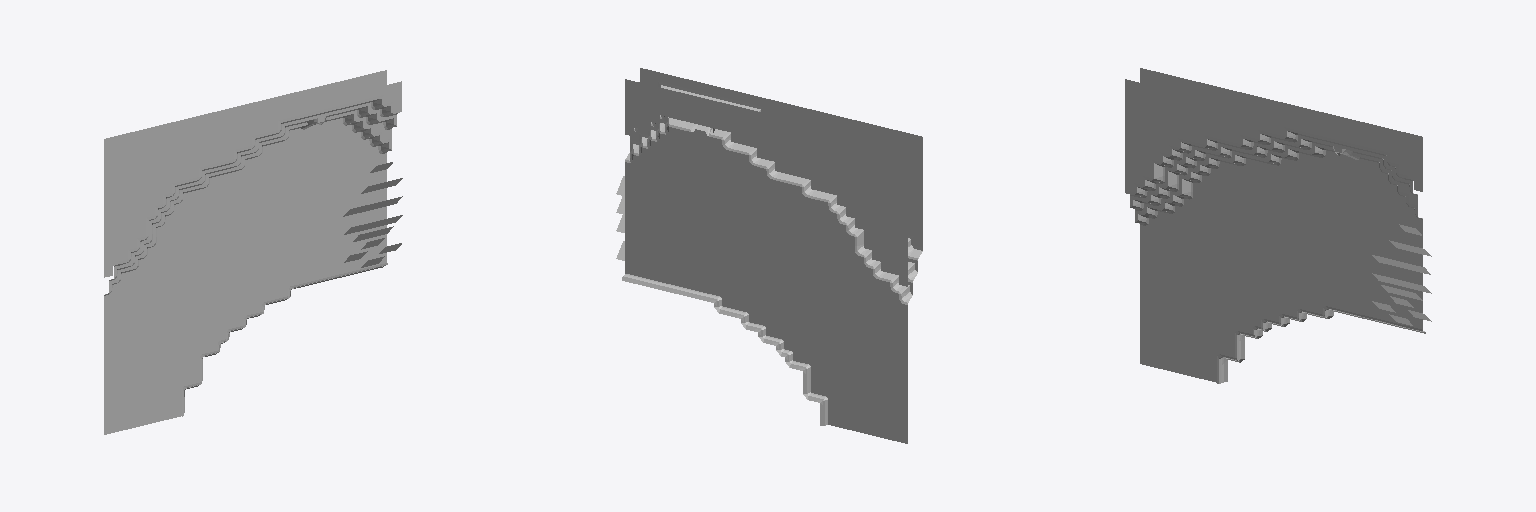
Rendered from testa_01_00.obj.
3 views of the same model, side by side, from view 1: azimuth 30°, elevation 25°; view 2: azimuth 150°, elevation 25°; view 3: azimuth 330°, elevation 25° (orthographic).
Parts seen in each view (by area): view 1: map; view 2: map; view 3: map.
Boxes of the visible parts, <box> form: map: <box>104,70,402,434</box>; map: <box>616,68,922,443</box>; map: <box>1125,68,1431,383</box>.
Size of the model in its own units: 33 by 32 by 3.6.